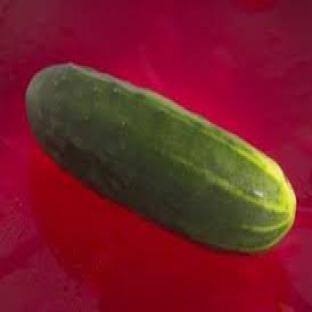Cucumber: (27, 65, 296, 252)
